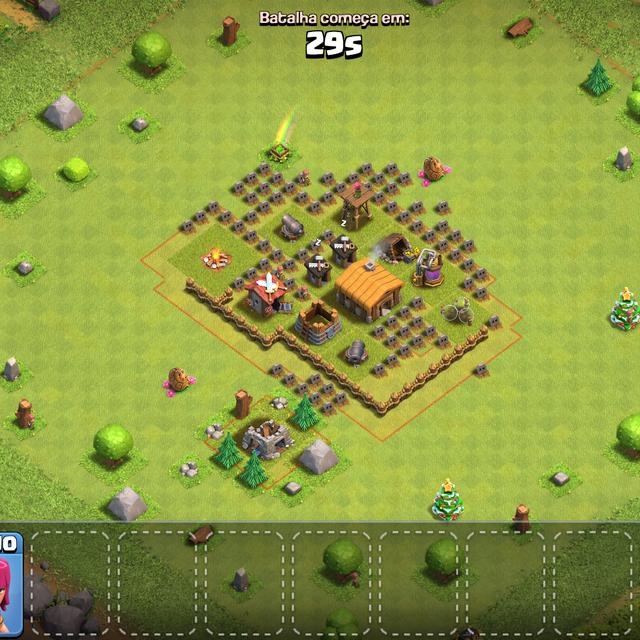Arqueira: (339, 180, 376, 232)
Canhao: (342, 337, 372, 369), (280, 212, 308, 240)
